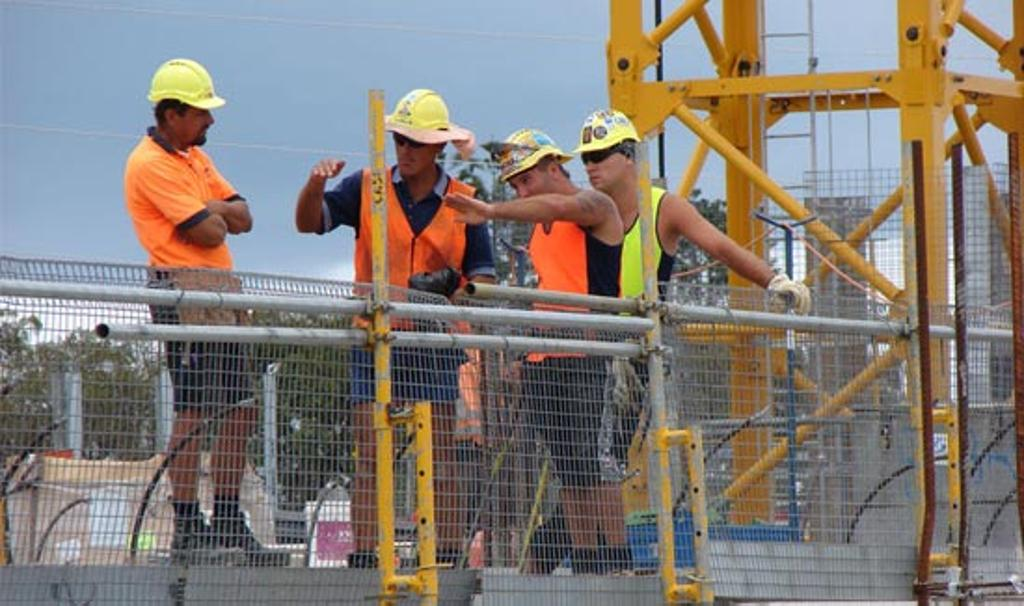face: (581, 144, 624, 189), (392, 129, 431, 176), (506, 159, 546, 204), (179, 103, 213, 145)
